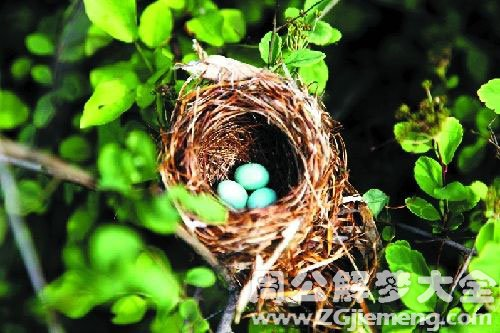bird-nest: (162, 73, 345, 285)
